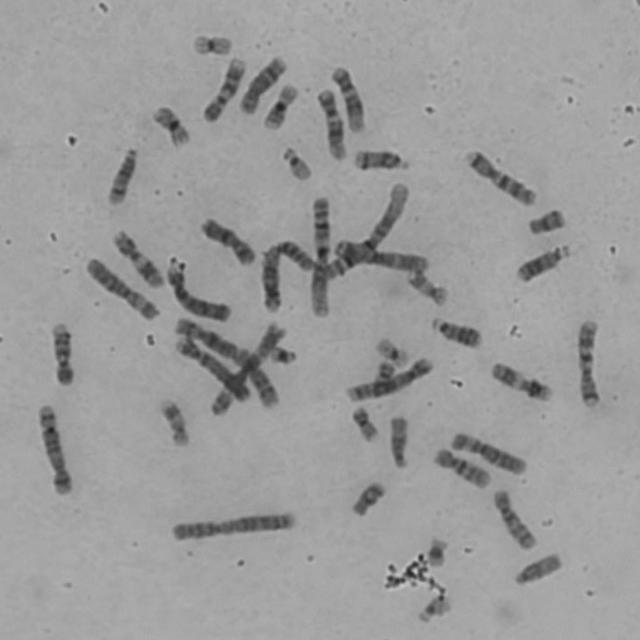A1: (324, 178, 412, 282), (307, 191, 332, 318)
A2: (165, 506, 301, 544), (257, 236, 315, 314)
A3: (205, 319, 288, 418), (333, 235, 433, 274)
B4: (172, 332, 255, 404), (162, 255, 234, 324)
B5: (343, 353, 435, 403), (32, 399, 76, 497)
C10: (489, 485, 538, 553), (429, 444, 494, 490)
C11: (107, 225, 165, 290), (486, 358, 554, 403)
C12: (327, 62, 368, 134), (312, 84, 348, 162)
C6: (80, 252, 162, 323), (446, 426, 530, 477)
C7: (460, 144, 540, 208), (572, 315, 604, 410)
C8: (235, 52, 290, 116), (232, 346, 282, 409)
C9: (199, 53, 248, 125), (46, 317, 78, 389)
D13: (512, 241, 574, 285), (428, 313, 485, 351)
D14: (102, 142, 142, 208), (350, 144, 412, 174)
D15: (510, 549, 564, 588), (385, 412, 411, 471)
E16: (147, 102, 194, 150), (260, 80, 301, 131)
E17: (155, 394, 192, 449), (402, 267, 452, 307)
E18: (346, 477, 388, 519), (524, 204, 569, 238)
F19: (371, 333, 413, 370), (188, 30, 234, 57)
F20: (347, 402, 381, 444), (371, 360, 398, 398)
G21: (423, 534, 451, 571), (264, 341, 299, 367)
G22: (277, 143, 316, 184), (414, 593, 454, 626)
X: (195, 213, 259, 268), (172, 314, 237, 360)
